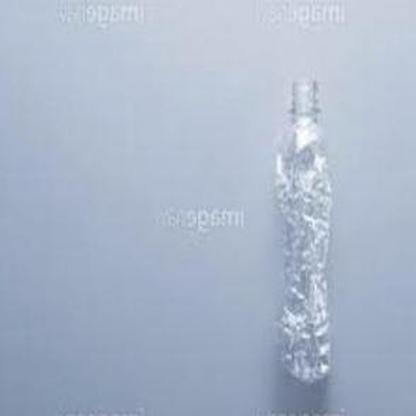plastic bottle: (275, 76, 334, 382)
